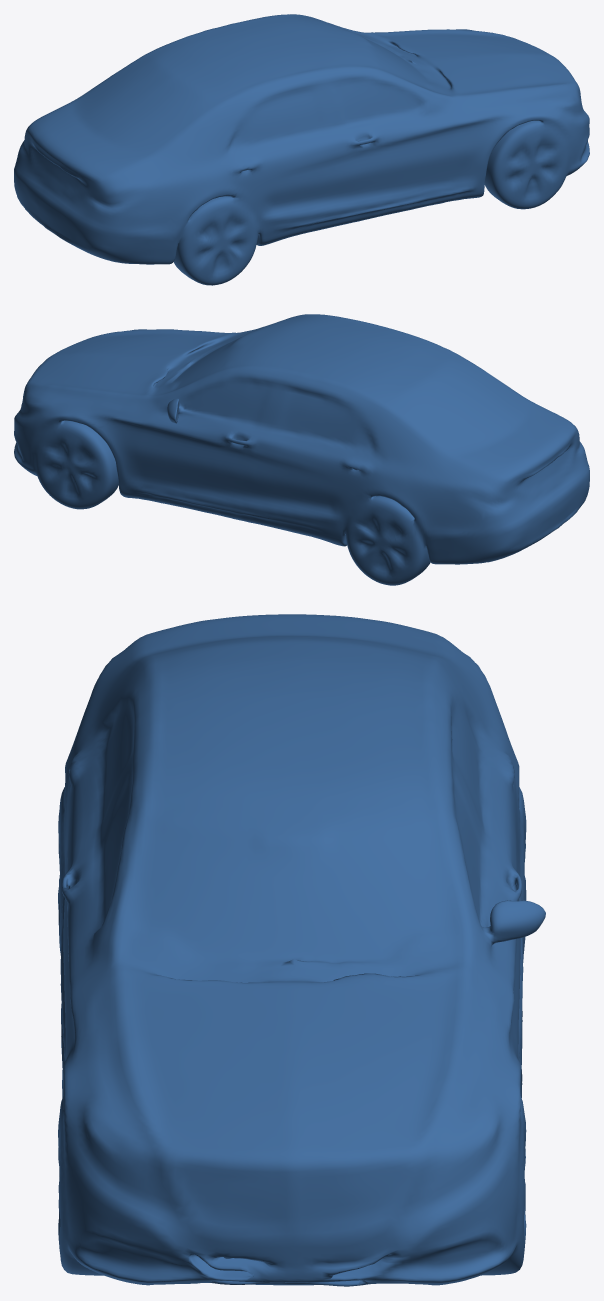
The model's file is mercedes-azul.glb.
3 renders of one model, top to bottom at view 1: azimuth 30°, elevation 25°; view 2: azimuth 150°, elevation 25°; view 3: azimuth 270°, elevation 25°, orthographic. The views are drawn at different scales.
Parts seen in each view (by area): view 1: tripo_node_009b0717; view 2: tripo_node_009b0717; view 3: tripo_node_009b0717.
Part boxes in pixels (box(x1,y1,x2,y2)): tripo_node_009b0717: box(14, 14, 589, 285); tripo_node_009b0717: box(14, 314, 589, 585); tripo_node_009b0717: box(58, 614, 545, 1286).
Bounding box in the file's own units: 0.9998 × 0.3216 × 0.4081.
